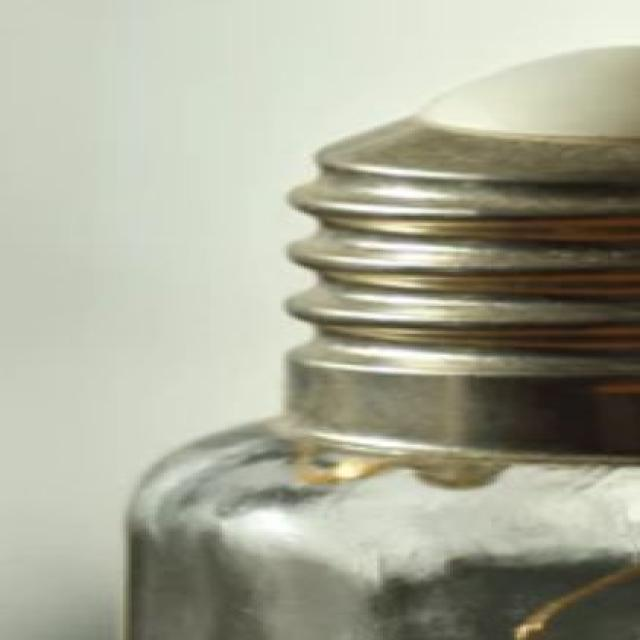electronic: (117, 40, 637, 638)
